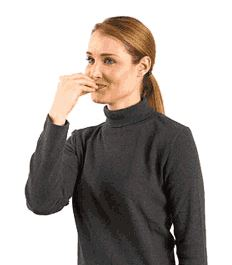eat: (49, 74, 116, 127)
